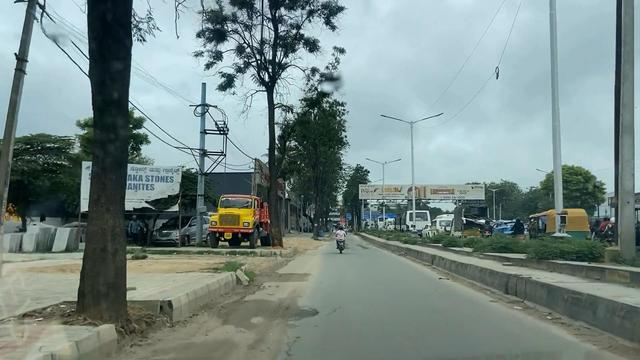RoadDamages: (228, 298, 317, 326), (272, 333, 304, 360)
